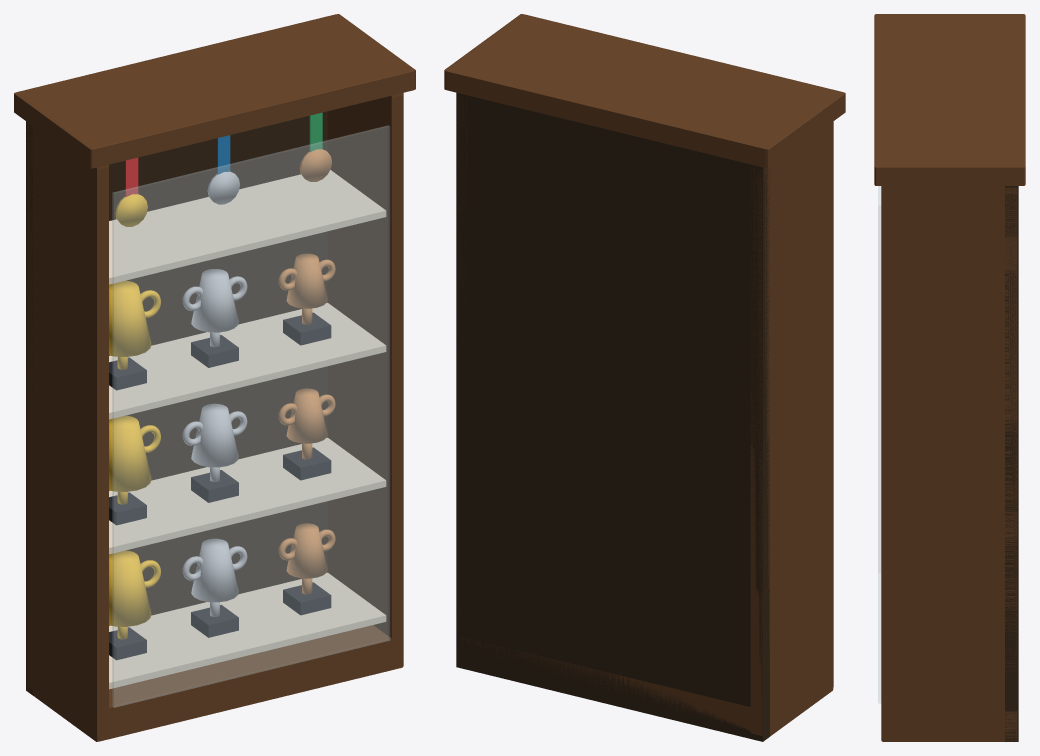
File: trophy.glb
3 renders of one model, left to right at view 1: azimuth 30°, elevation 25°; view 2: azimuth 150°, elevation 25°; view 3: azimuth 270°, elevation 25°, orthographic. The views are drawn at different scales.
Visible parts, largest first — view 1: trophy; view 2: trophy; view 3: trophy.
Part boxes in pixels (x1,y1,x2,y2): trophy: (14, 14, 415, 741); trophy: (444, 14, 845, 741); trophy: (874, 14, 1025, 741).
Bounding box in the file's own units: 1.06 × 1.86 × 0.4401.
Materials: 2 (2 with a texture image).
